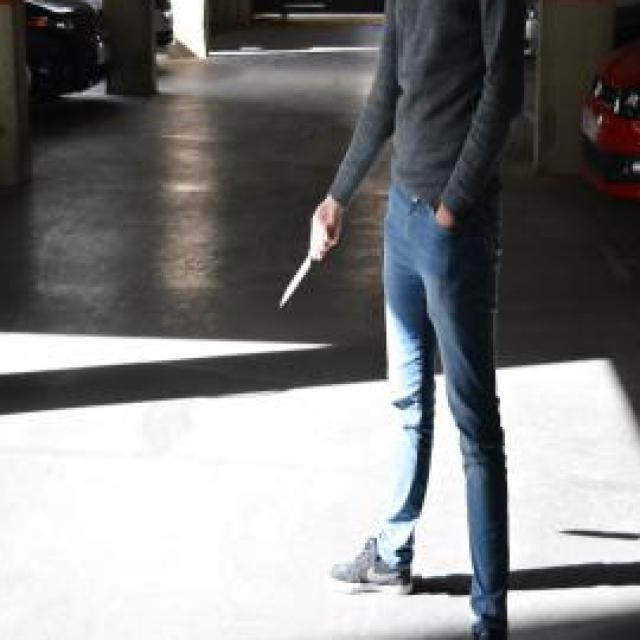knife: (275, 220, 335, 313)
